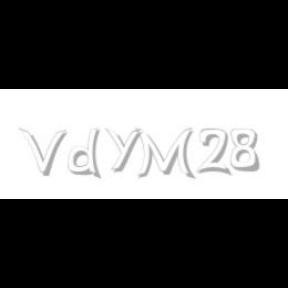2: (196, 128, 230, 176)
8: (230, 128, 260, 172)
M: (134, 128, 194, 180)
V: (19, 128, 67, 176)
d: (68, 128, 104, 180)
y: (105, 128, 145, 172)
